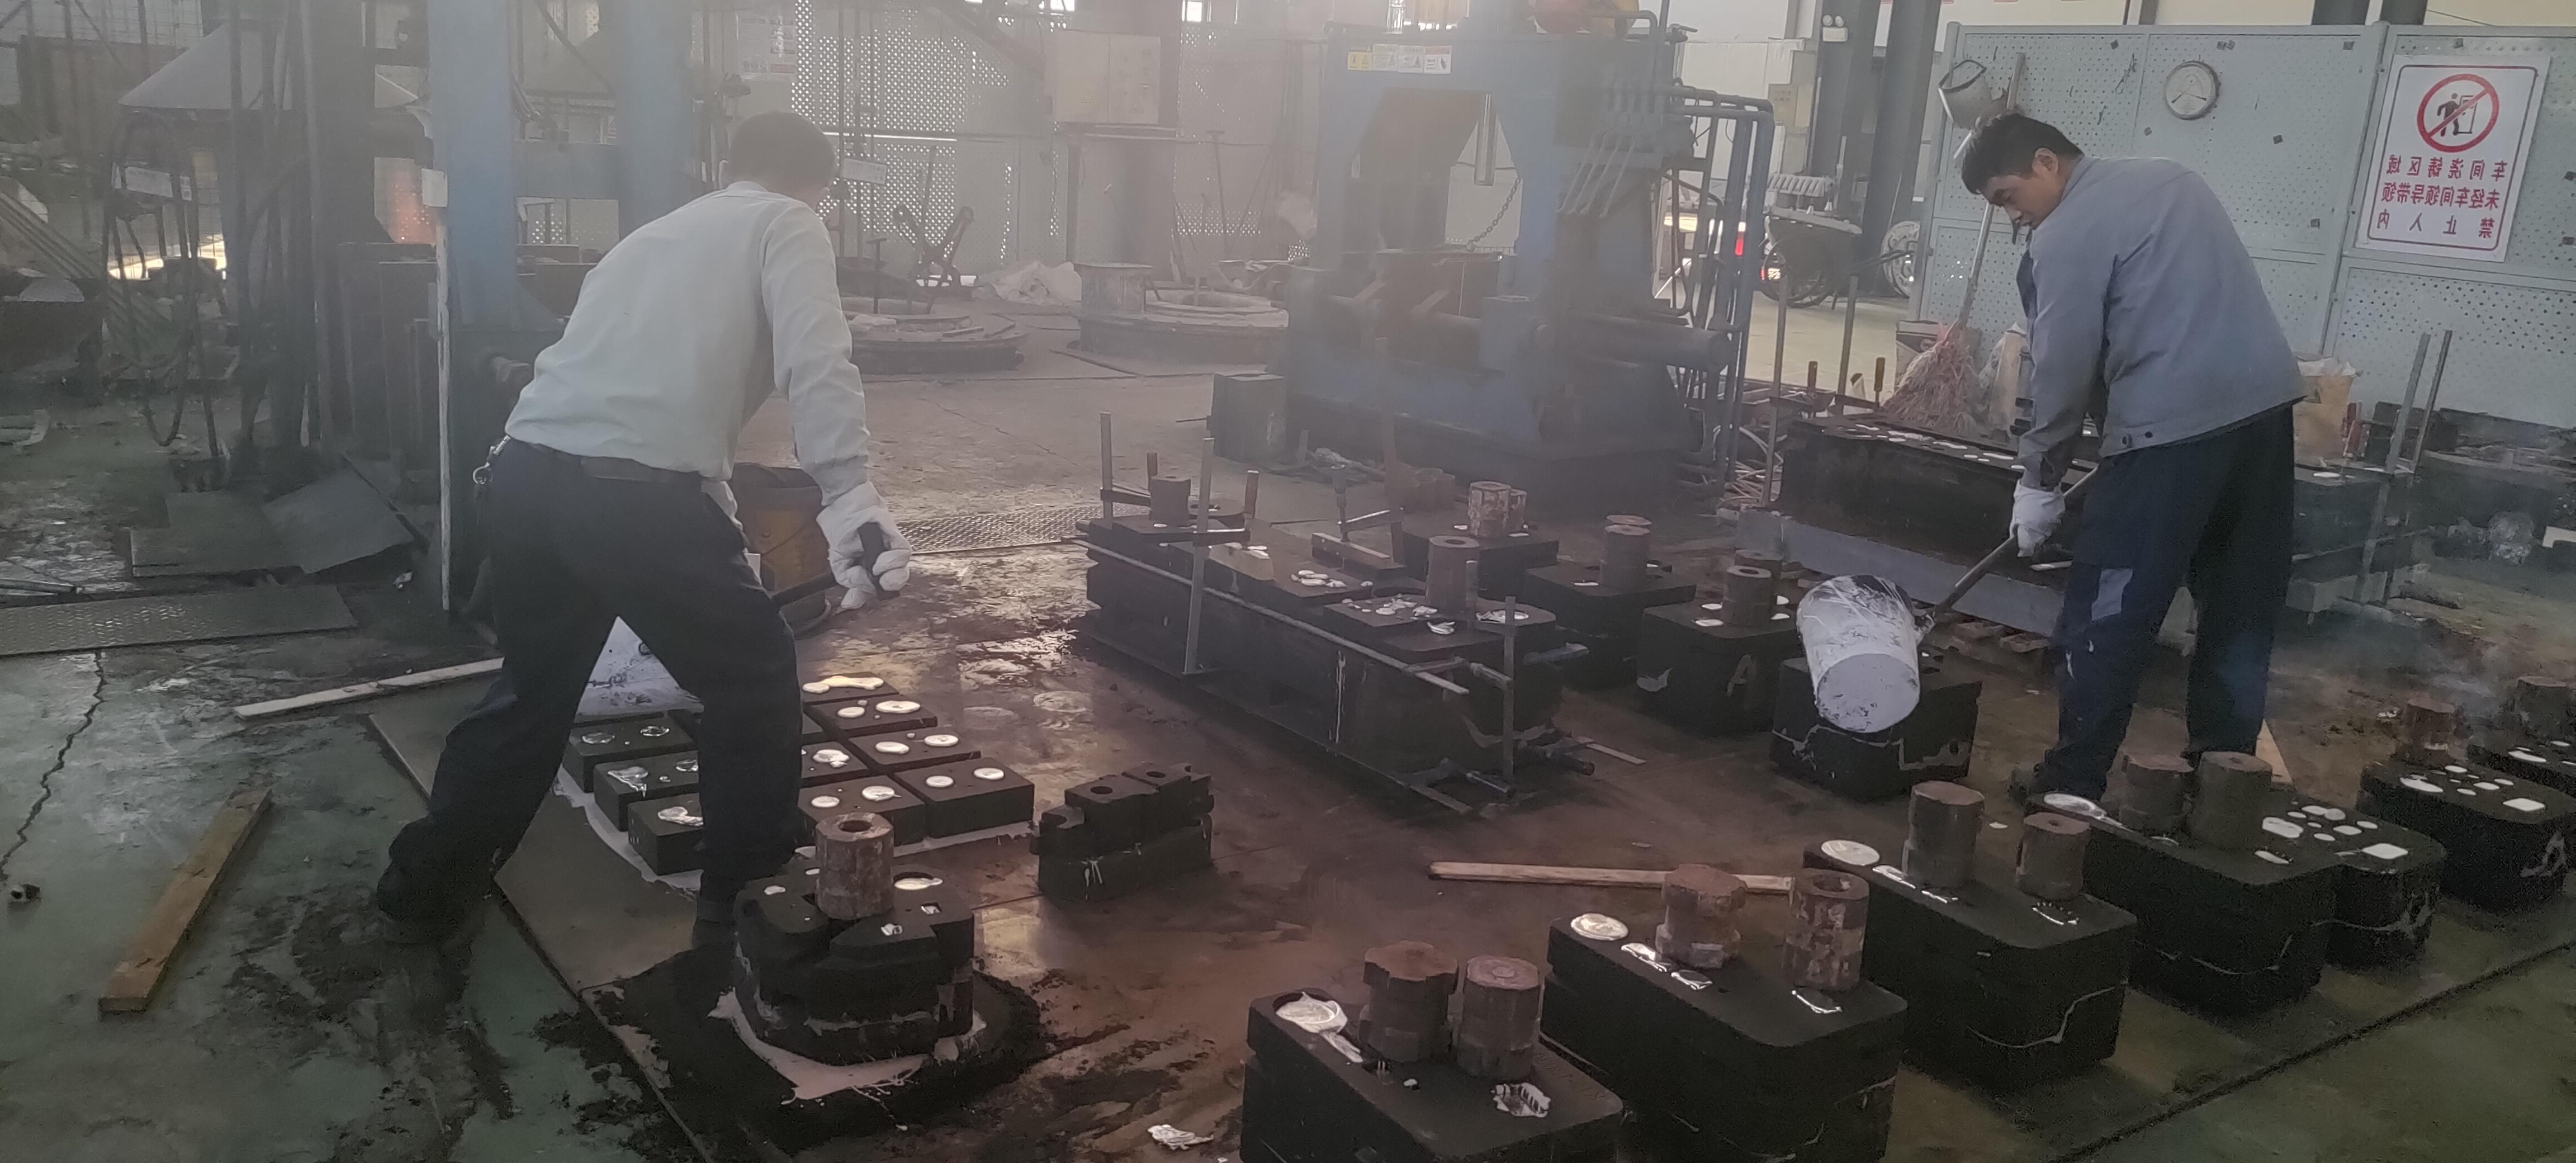pouring hole: (1273, 994, 1329, 1027), (1571, 913, 1626, 940), (1822, 841, 1878, 864), (2259, 813, 2300, 838), (892, 871, 935, 892), (2044, 788, 2090, 808), (2399, 775, 2443, 795), (2507, 746, 2548, 765), (1483, 606, 1529, 623), (1898, 639, 1932, 660), (2155, 470, 2201, 485), (861, 785, 895, 800), (674, 687, 708, 701), (738, 683, 772, 698), (656, 805, 688, 820), (720, 718, 752, 733), (775, 715, 808, 729), (812, 749, 848, 762), (810, 793, 841, 808), (766, 754, 797, 769), (613, 693, 641, 710), (705, 798, 729, 816), (2358, 463, 2394, 475), (925, 774, 956, 787), (621, 764, 647, 779), (675, 757, 701, 772), (559, 698, 586, 711), (973, 767, 1004, 779), (928, 734, 959, 746), (884, 701, 910, 715), (1638, 557, 1664, 570), (800, 682, 830, 693), (848, 677, 877, 688), (2063, 425, 2093, 437), (1188, 503, 1221, 513), (1508, 513, 1533, 526), (835, 705, 862, 716), (876, 742, 907, 752), (583, 731, 610, 742), (642, 724, 669, 736), (1766, 591, 1789, 604), (1843, 429, 1873, 439), (1396, 476, 1421, 488), (1419, 465, 1444, 475), (2431, 421, 2461, 429), (1414, 475, 1437, 483), (1434, 473, 1457, 481), (1398, 468, 1419, 476), (1393, 462, 1414, 468)
